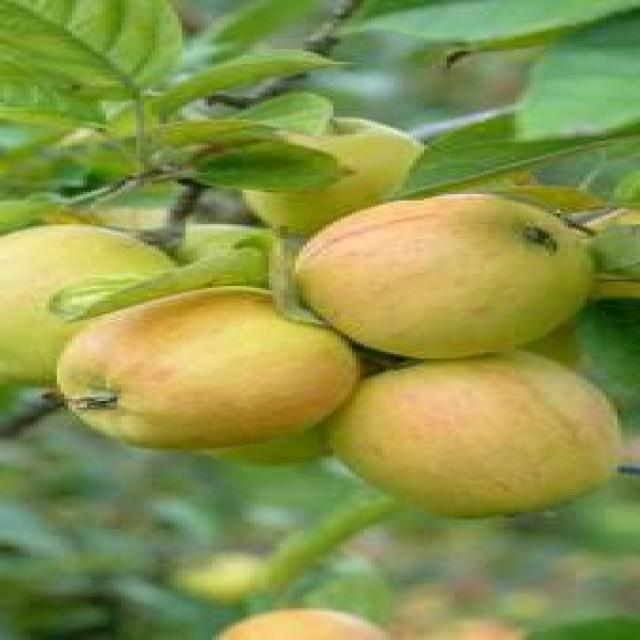Fresh Apple: (303, 192, 610, 365), (352, 370, 612, 532), (75, 297, 335, 455)
